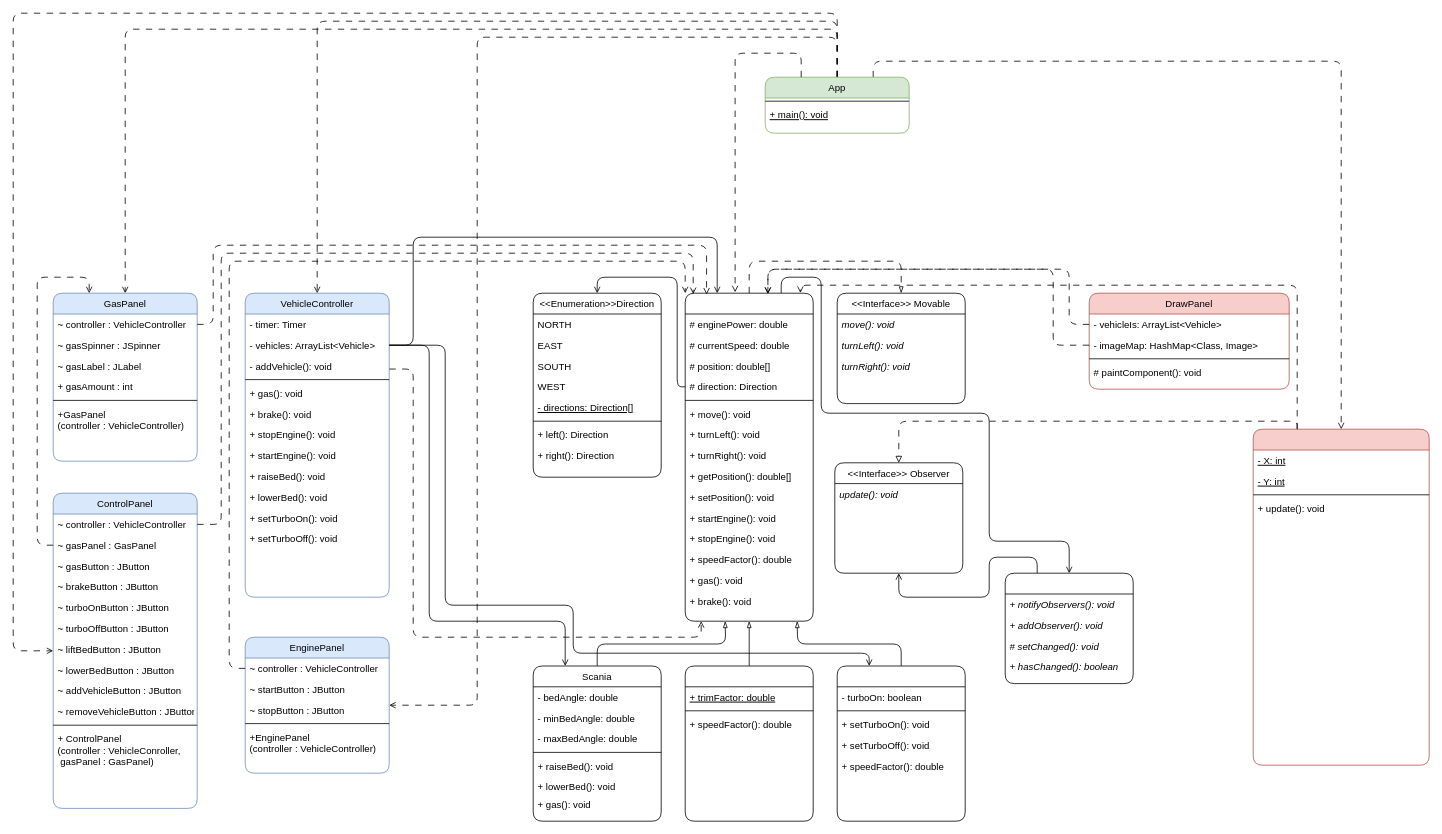
This 1442x834 diagram has some shape labels left out. The box of each missing label's shape, as (x1, y1, x2, y2) in pixels:
Frame: (1252, 428, 1429, 765)
Observable: (1004, 572, 1133, 684)
Saab95: (836, 665, 965, 821)
Vehicle {Abstract}: (684, 292, 813, 621)
Volvo240: (684, 665, 813, 821)
